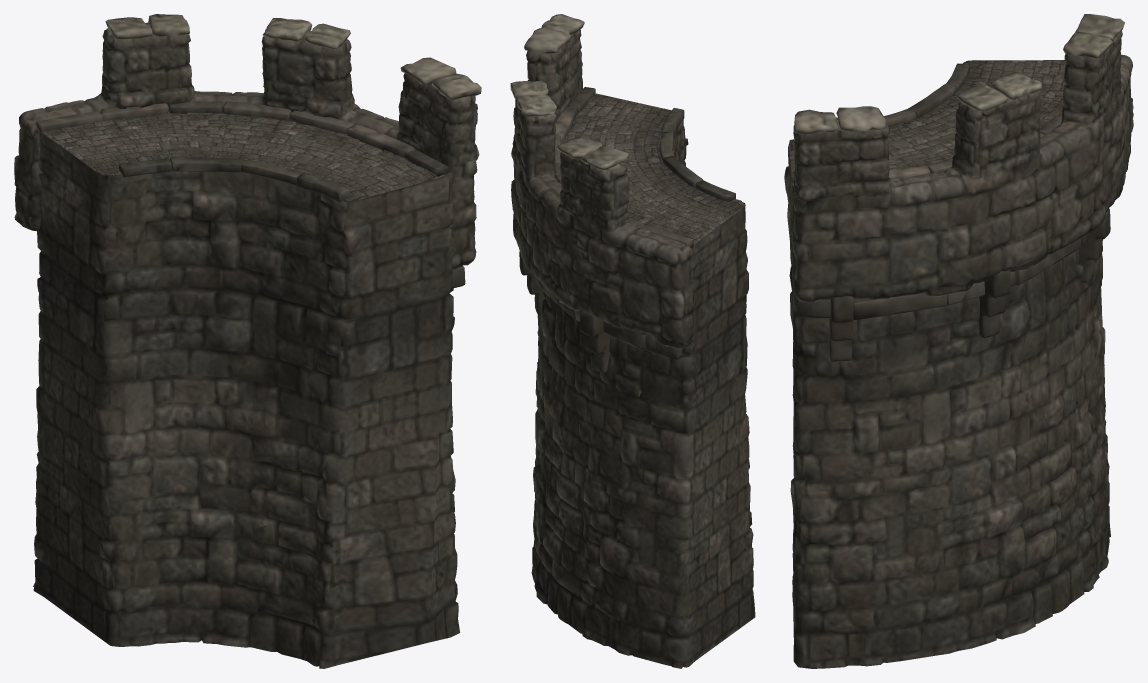
The model's file is C_Wall_Curve.fbx.
The picture shows the model from 3 angles, left to right: view 1: azimuth 30°, elevation 25°; view 2: azimuth 150°, elevation 25°; view 3: azimuth 270°, elevation 25°; orthographic projection. The views are drawn at different scales.
Parts seen in each view (by area): view 1: C_Wall_Curve_Base, C_Wall_Curve_Battlement, C_Wall_Curve_Tiles; view 2: C_Wall_Curve_Base, C_Wall_Curve_Battlement, C_Wall_Curve_Tiles; view 3: C_Wall_Curve_Base, C_Wall_Curve_Battlement, C_Wall_Curve_Tiles.
Boxes of the visible parts, x1,y1,x2,y2 form: C_Wall_Curve_Base: (33, 110, 460, 668); C_Wall_Curve_Battlement: (14, 22, 479, 288); C_Wall_Curve_Tiles: (105, 14, 481, 100); C_Wall_Curve_Base: (531, 93, 755, 668); C_Wall_Curve_Battlement: (511, 29, 735, 373); C_Wall_Curve_Tiles: (510, 14, 628, 169); C_Wall_Curve_Base: (784, 60, 1110, 668); C_Wall_Curve_Battlement: (792, 30, 1133, 361); C_Wall_Curve_Tiles: (794, 14, 1124, 134).
Size of what is drawn, in the model's own units: 818 by 1400 by 797.
